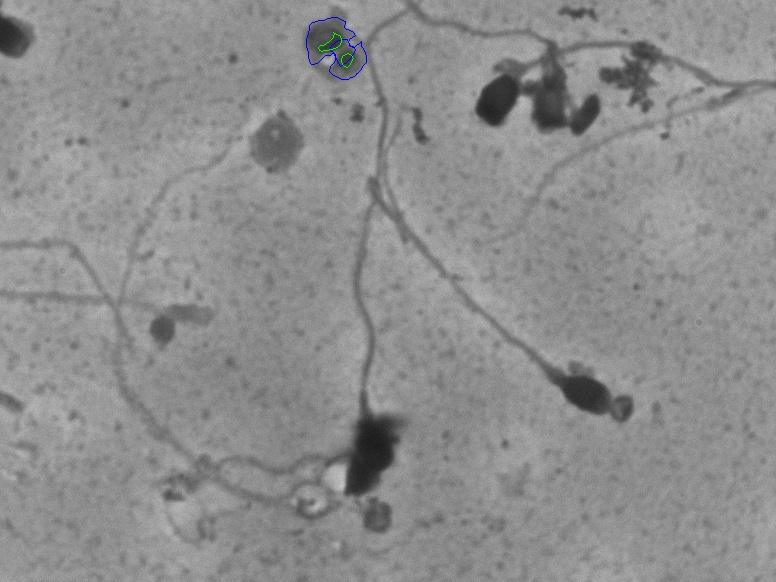Abnormal: (417, 158, 661, 425), (327, 71, 405, 487)
